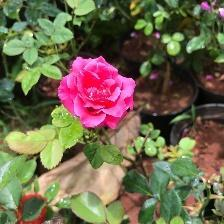rose: (58, 54, 138, 132)
